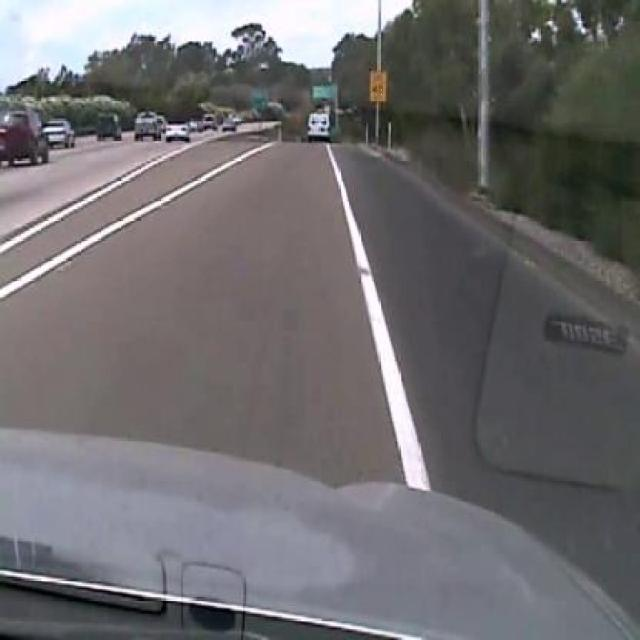rampSpeedAdvisory45: (368, 69, 387, 103)
